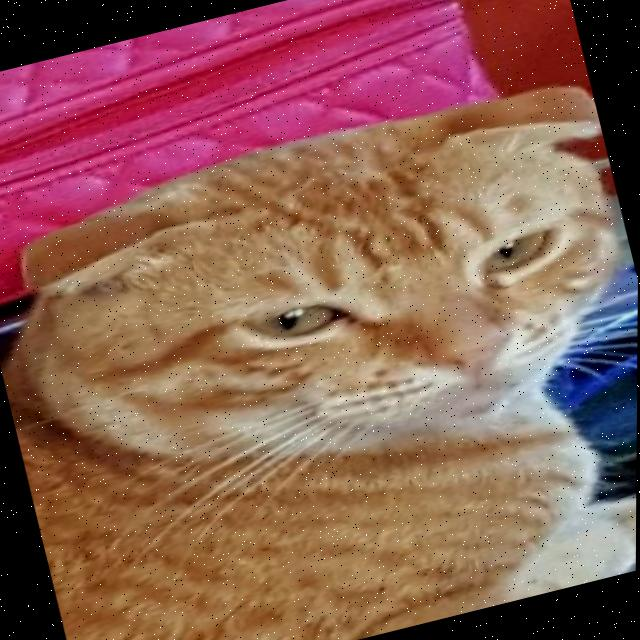Scottish Fold: (0, 61, 640, 640)
